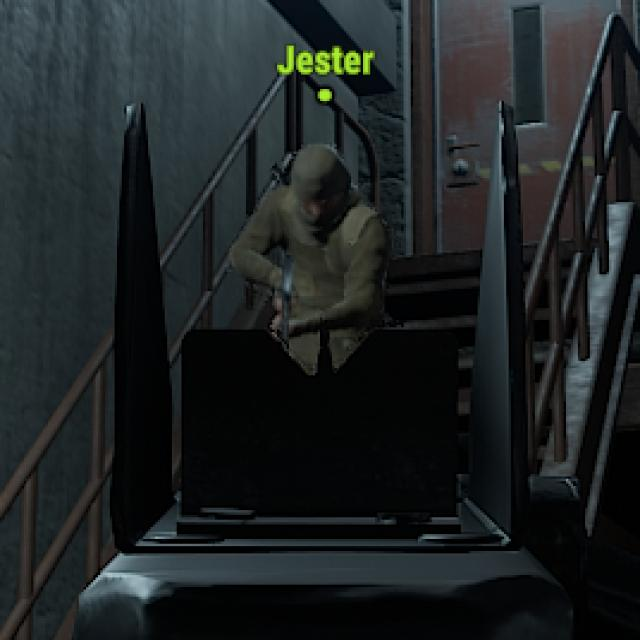Player: (229, 148, 392, 324)
